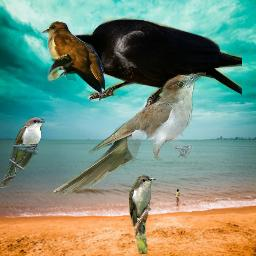Crow: (46, 17, 242, 121)
Cuckoo: (52, 72, 206, 195), (42, 21, 105, 95), (0, 116, 45, 188), (129, 173, 156, 254)
